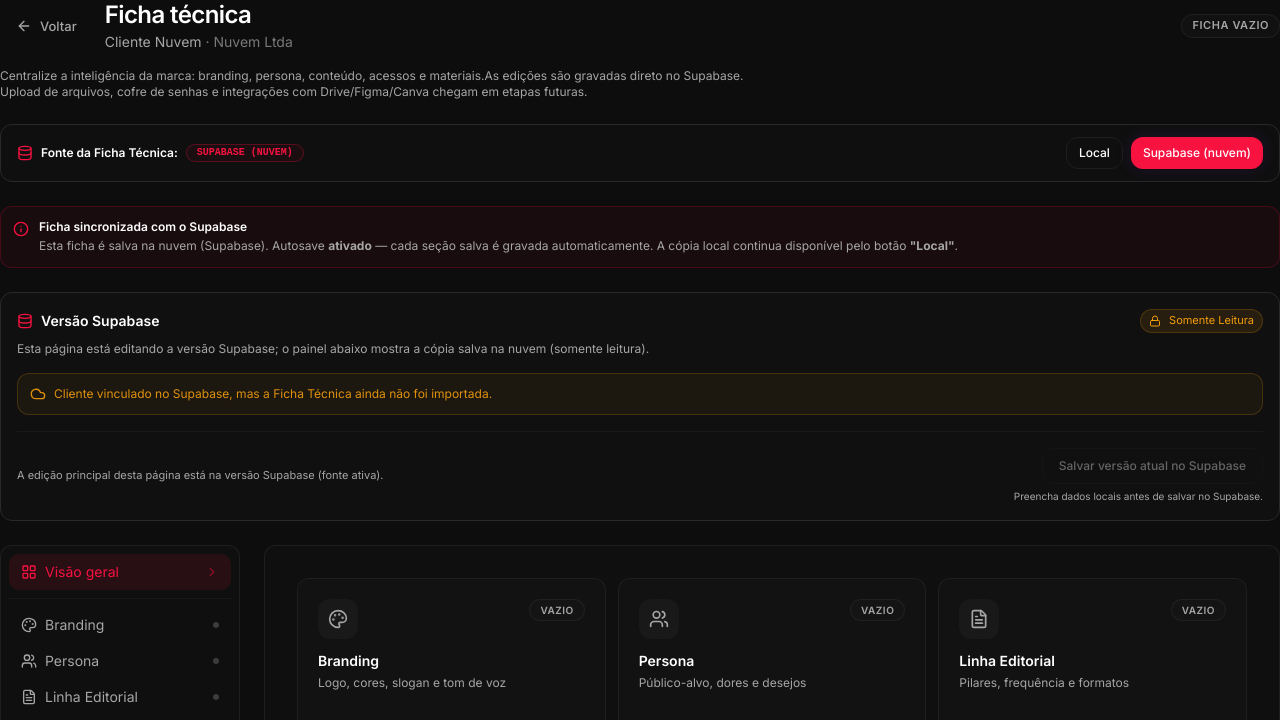
Test case: ClientTechnicalSheet — G82 (cliente só-nuvem, id uuid) › upload de logo resolve o vínculo (antes: Number(uuid)=NaN ⇒ 'Vínculo Supabase ou workspace ativo ausente.')
Expected: the heading "Ficha técnica" is shown, [105,0,251,29]
What coordinates should you click on to do the following:
click the button "Branding"
I would click on:
 (120, 625)
Its box is [9,607,231,643].
(page scrolled)
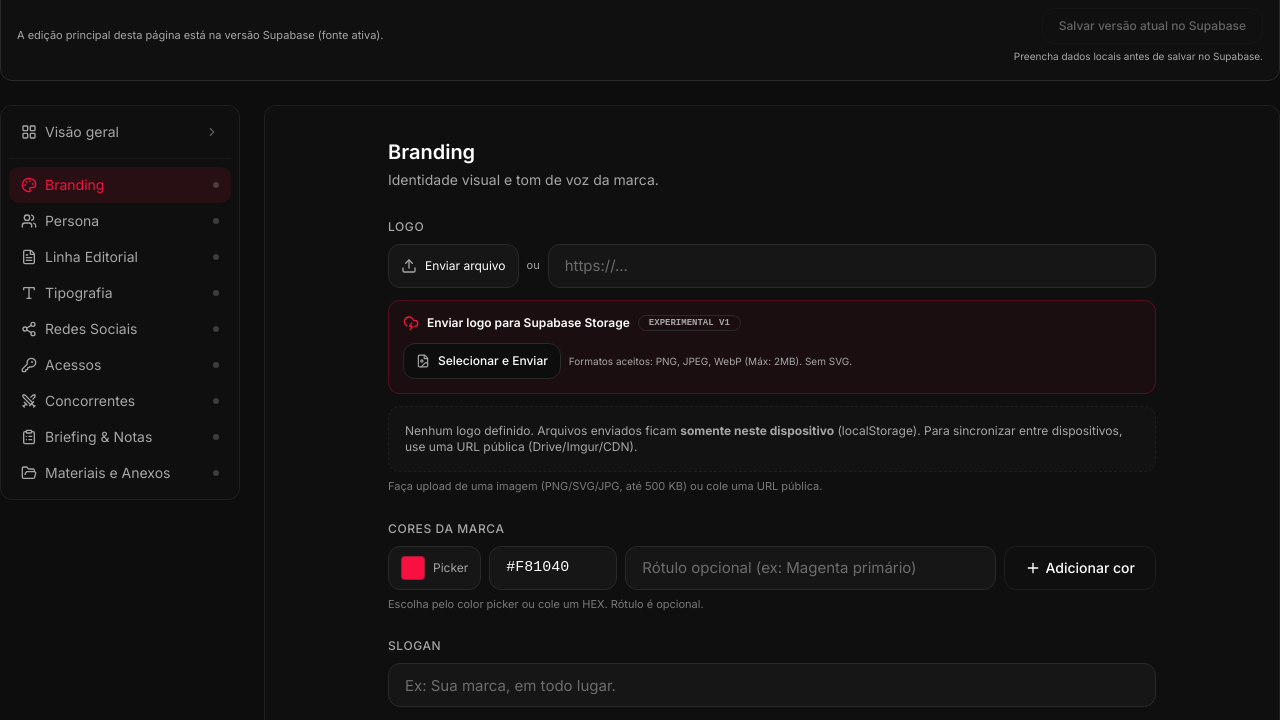
Expected: the text "Selecionar e Enviar" is shown, [438,353,548,369]
